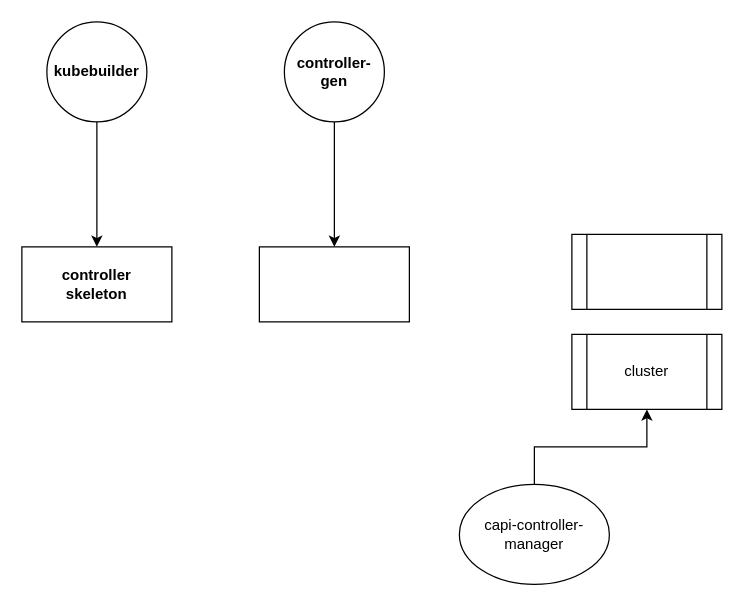
Some shapes in this 744 by 606 pixel diagram are drawn without their labels. Each missing label, with the centre of its shape:
"crd" goes at (333,284).
"ibmvpccluster" goes at (646,271).
